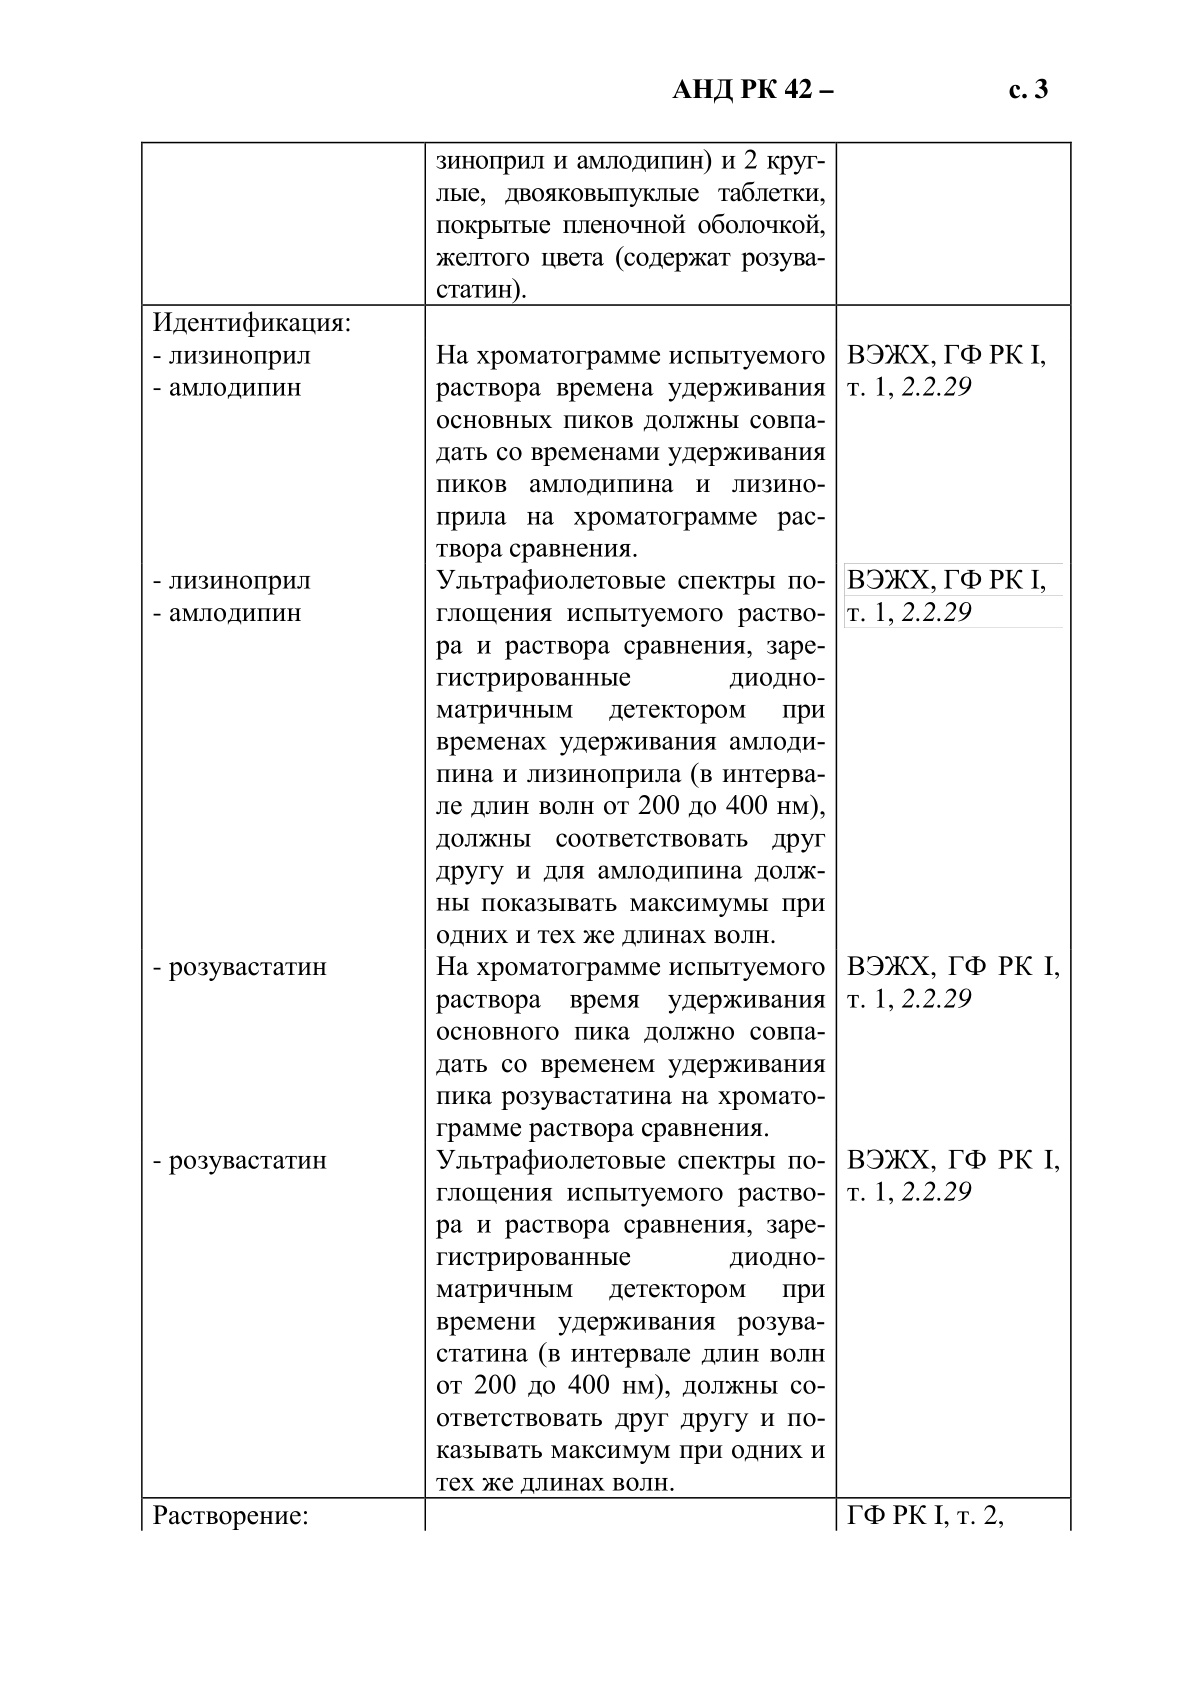partial_lined: (140, 140, 1072, 1533)
